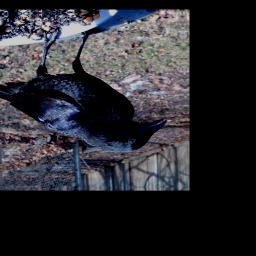Crow: (0, 25, 168, 156)
